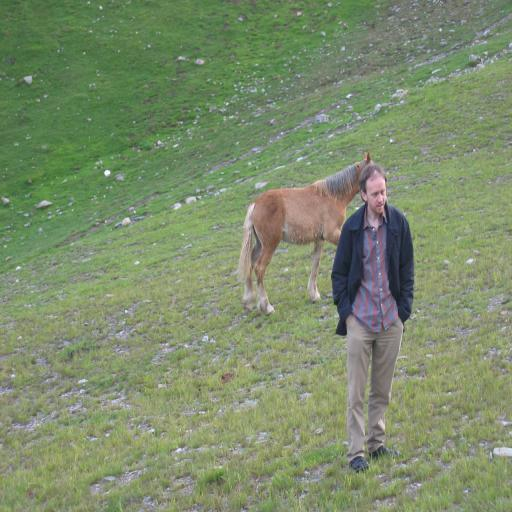horse: (238, 151, 376, 318)
